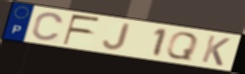1: (151, 28, 169, 58)
C: (30, 11, 66, 42)
F: (62, 13, 103, 46)
J: (101, 22, 132, 51)
K: (199, 34, 233, 68)
Q: (164, 31, 201, 62)
